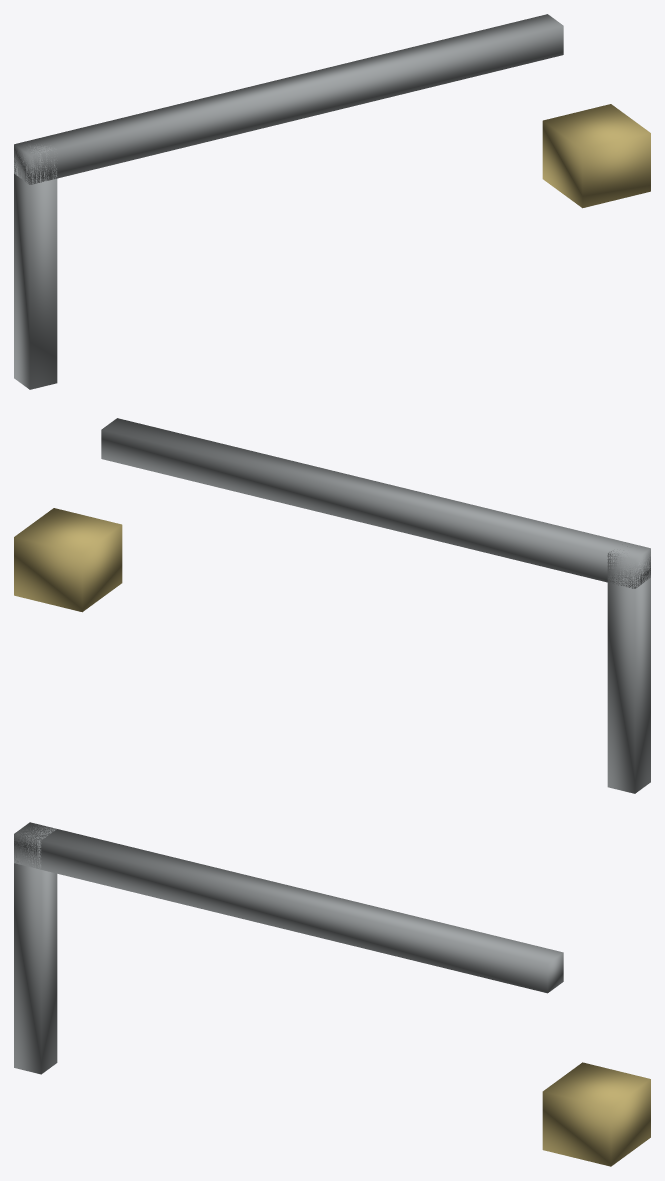
The model's file is grab_bar_14.glb.
3 renders of one model, top to bottom at view 1: azimuth 30°, elevation 25°; view 2: azimuth 150°, elevation 25°; view 3: azimuth 330°, elevation 25°, orthographic.
Visible parts, largest first — view 1: world; view 2: world; view 3: world.
Part boxes in pixels (<box>): world: <box>14,14,650,389</box>; world: <box>14,418,650,793</box>; world: <box>14,822,650,1166</box>.
Size of the model in its own units: 0.8544 by 0.3136 by 0.097.
